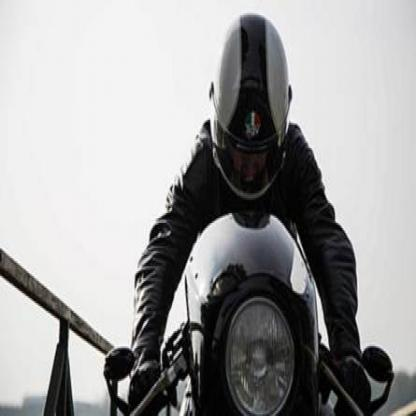helmet: (209, 13, 292, 206)
